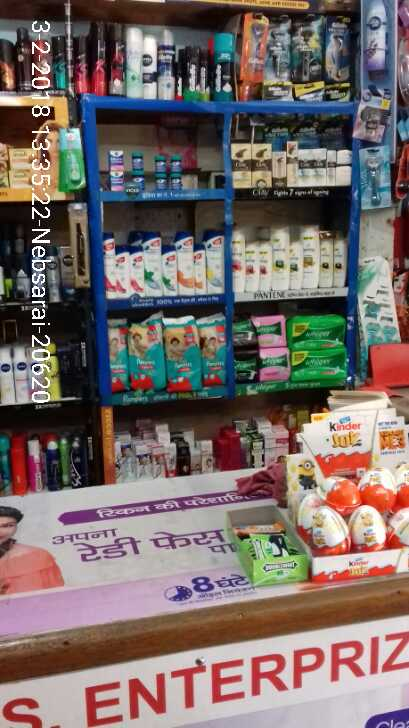vicks: (109, 149, 183, 191)
